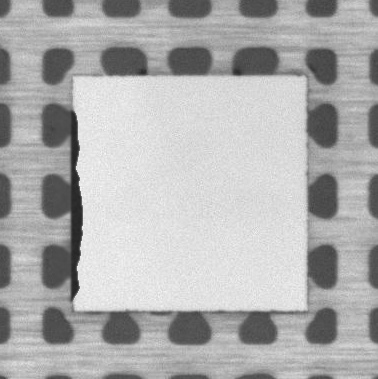DIE_BROKEN: (68, 108, 85, 300)
